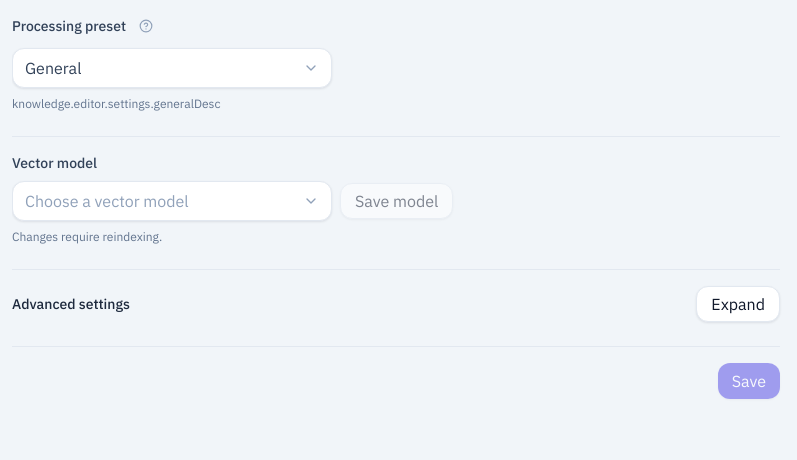
Scenario: RetrievalSettingsTab › selects and saves the Long document preset in one step
This screenshot has width=797, height=460.
Step 1. Click the button with aria-label "Processing preset" → (53, 68), box [12,48,332,88]
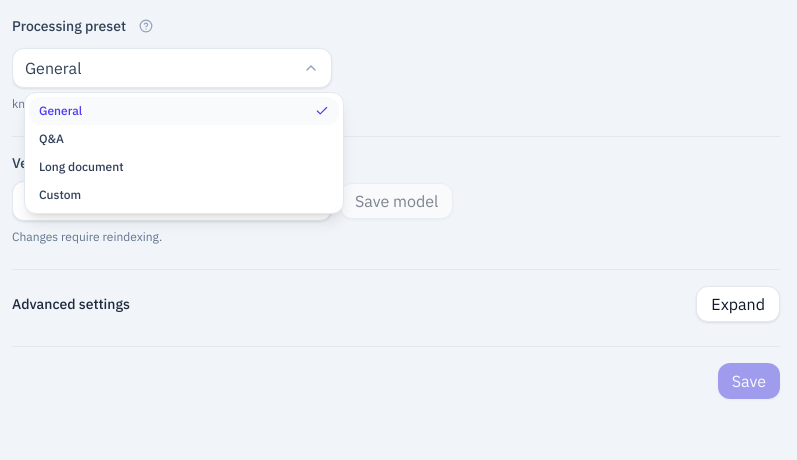
Step 2. Click the menu item "Long document" → (81, 166), box [39,159,124,174]
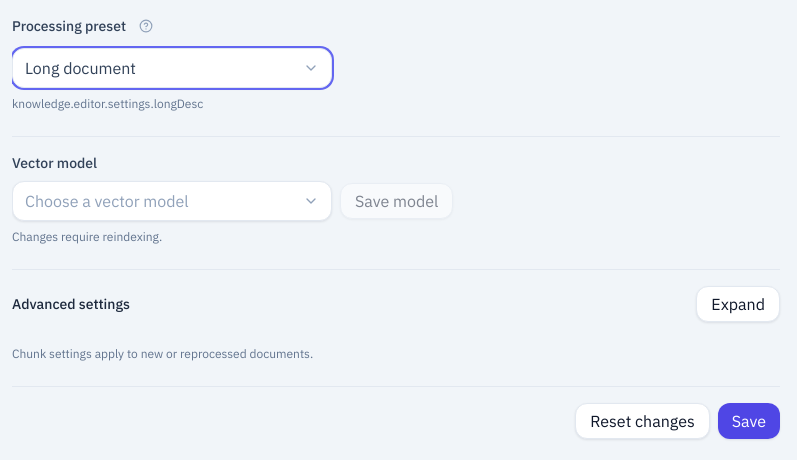
Step 3. Click the button "Save" → (749, 421), box [718,403,780,439]
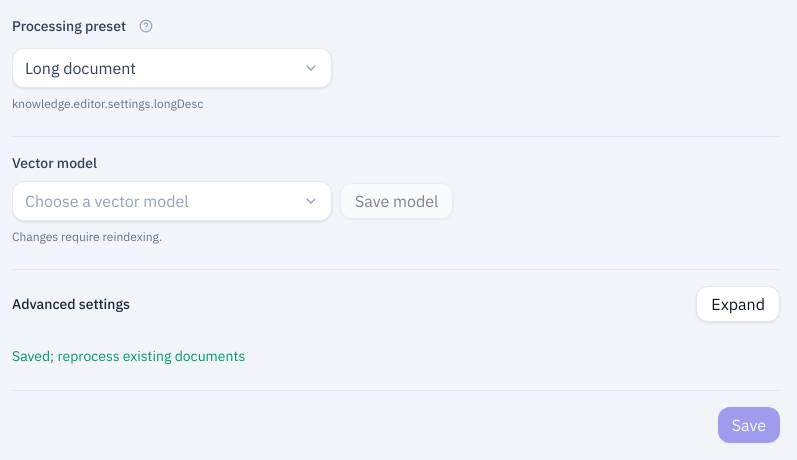
Expected: the text "Saved; reprocess existing documents" is shown, [12,347,245,365]
